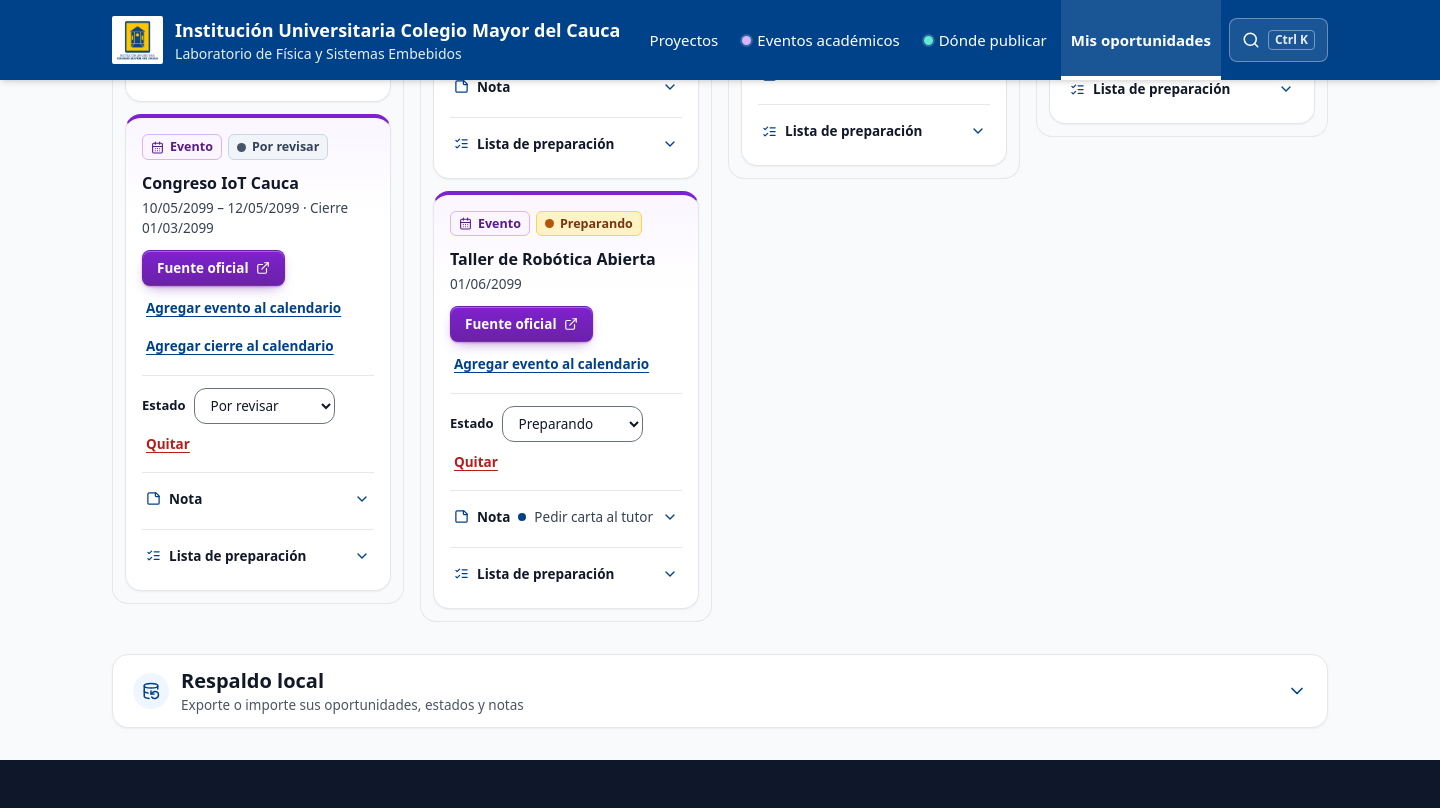
board view › changing the status in a card moves it to the other column, saves it, keeps the saved note and keeps the keyboard focus on it
The image size is (1440, 808).
(page scrolled)
Select "Enviado" in the dropdown labelled "Estado" below "Congreso IoT Cauca" at [264, 406], box [194,388,334,424]
(page scrolled)
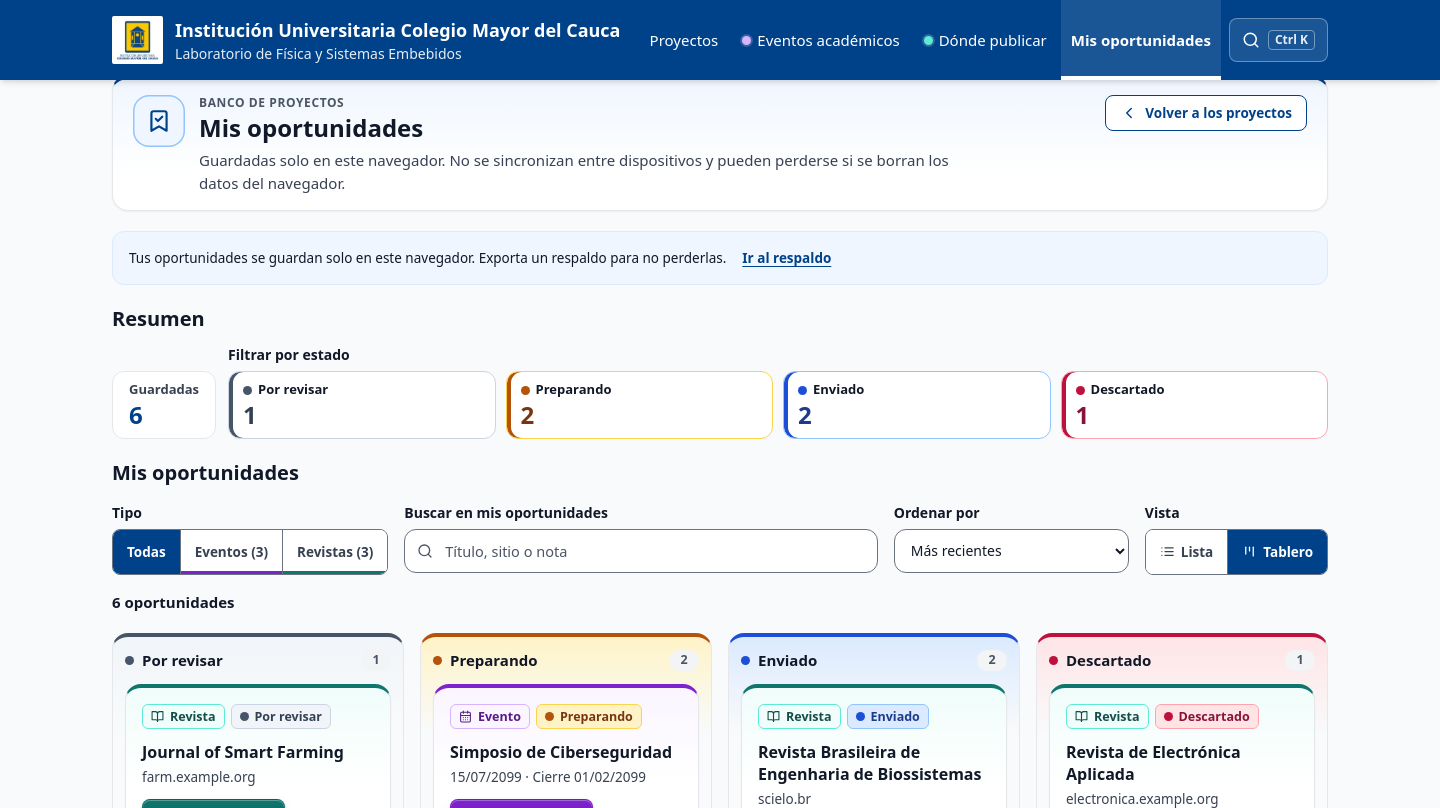
Expected: the button with aria-label "Enviado: 2 " is shown, [783,371,1050,439]
Expected: the headings read "Por revisar 1", "Preparando 2", "Enviado 2", "Descartado 1", in this order, [125,649,391,672]; [433,649,699,672]; [741,649,1007,672]; [1049,649,1315,672]
